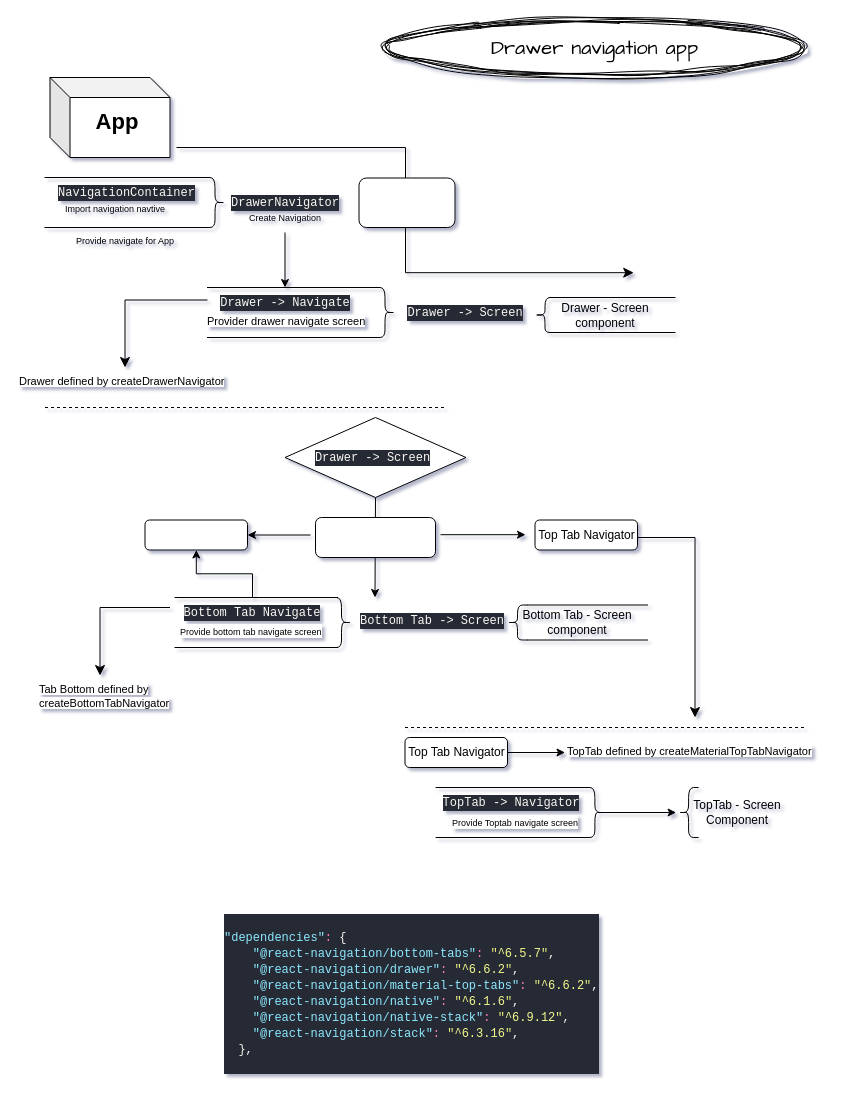
Some shapes in this 848 by 1109 pixel diagram are drawn without their labels. The box of each missing label's shape, as (x1, y1, x2, y2) in pixels:
Create Drawer: (358, 177, 455, 228)
Create multi tab (bottom, top...): (314, 516, 436, 558)
Single Screen: (144, 519, 248, 550)
